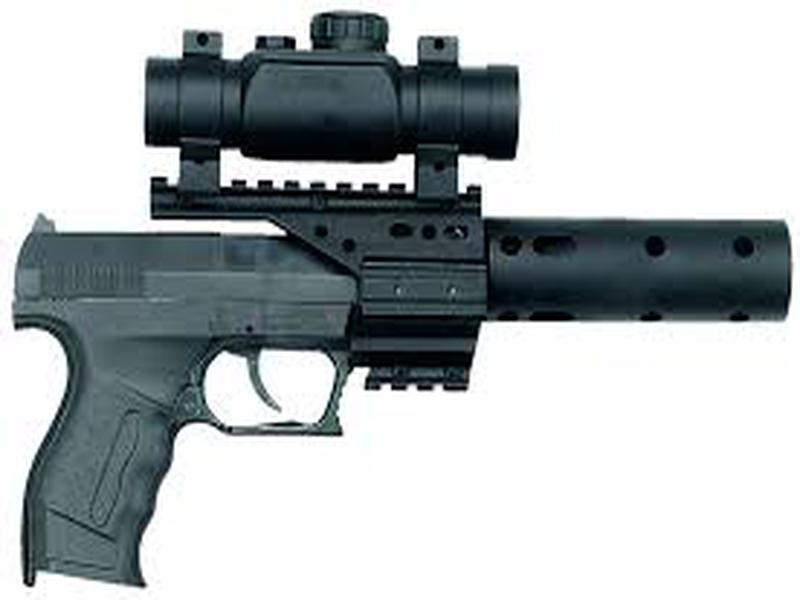gun: (13, 217, 793, 588)
